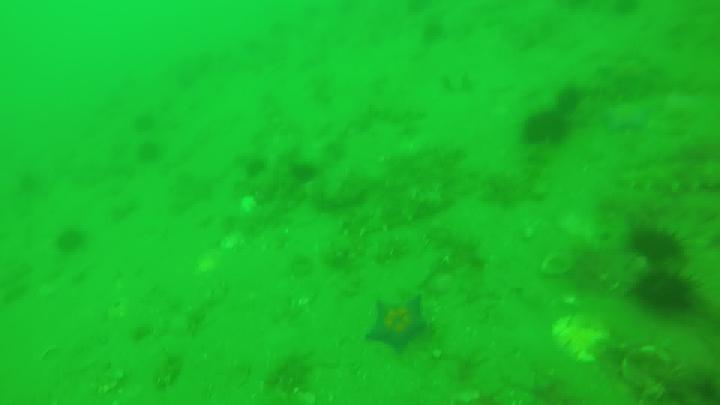echinus: (633, 272, 698, 313), (633, 225, 685, 262), (521, 108, 570, 144), (552, 83, 586, 108)
holothurian: (339, 190, 446, 237), (620, 160, 720, 200), (192, 255, 223, 273)
scallop: (622, 346, 682, 405), (553, 312, 610, 358), (539, 250, 581, 277)
starfish: (364, 296, 432, 353)
